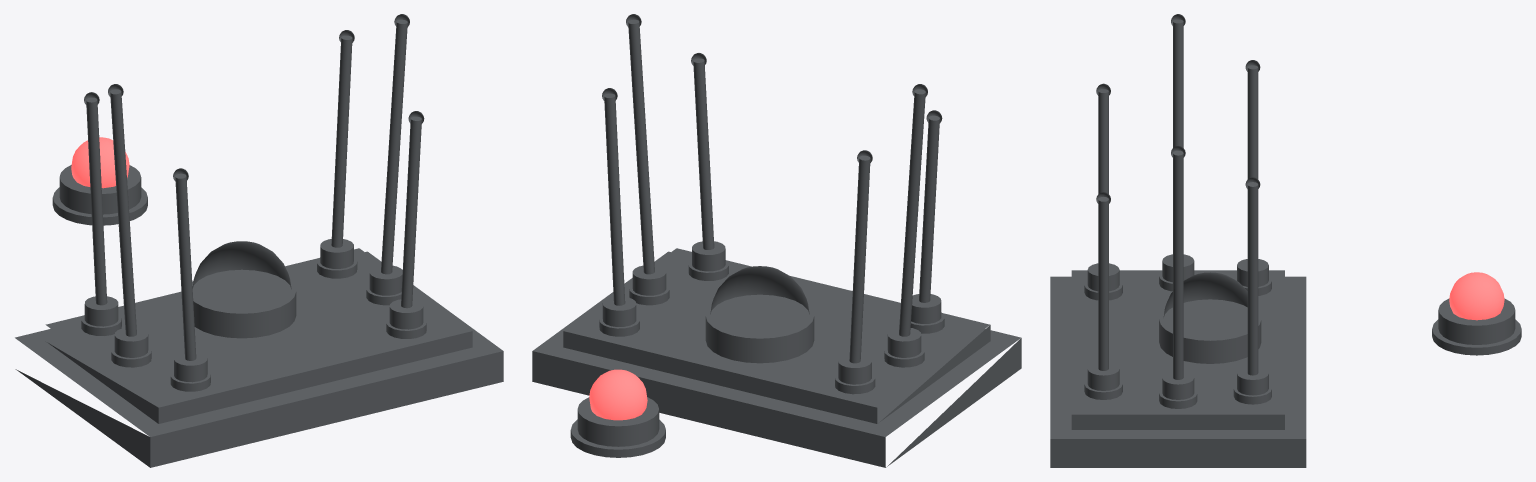
File: AVIONICS_MASTER.glb
3 renders of one model, left to right at view 1: azimuth 30°, elevation 25°; view 2: azimuth 150°, elevation 25°; view 3: azimuth 270°, elevation 25°, orthographic. The views are drawn at different scales.
Parts seen in each view (by area): view 1: ANTENNA_SYSTEM, BEACON_BASE, LIGHTS_BEACON; view 2: ANTENNA_SYSTEM, BEACON_BASE, LIGHTS_BEACON; view 3: ANTENNA_SYSTEM, BEACON_BASE, LIGHTS_BEACON.
Boxes of the visible parts, <box> form: ANTENNA_SYSTEM: <box>15,14,503,467</box>; BEACON_BASE: <box>52,165,147,225</box>; LIGHTS_BEACON: <box>71,137,129,188</box>; ANTENNA_SYSTEM: <box>532,14,1021,467</box>; BEACON_BASE: <box>570,397,665,457</box>; LIGHTS_BEACON: <box>589,369,647,420</box>; ANTENNA_SYSTEM: <box>1050,14,1306,467</box>; BEACON_BASE: <box>1432,298,1521,355</box>; LIGHTS_BEACON: <box>1449,272,1504,320</box>.
Size of the model in its own units: 0.18 by 0.1585 by 0.221.
